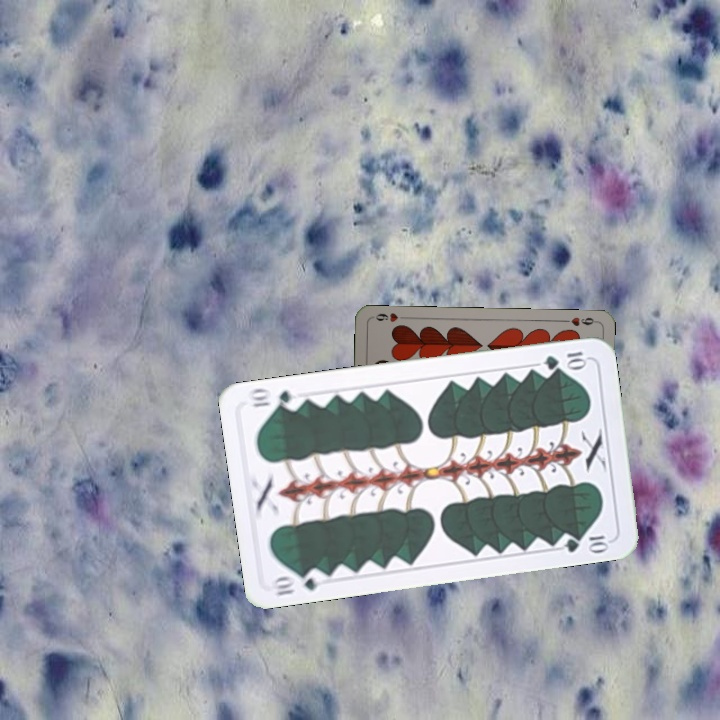G10: (269, 566, 328, 599), (540, 347, 590, 373)
H9: (558, 313, 599, 328)
